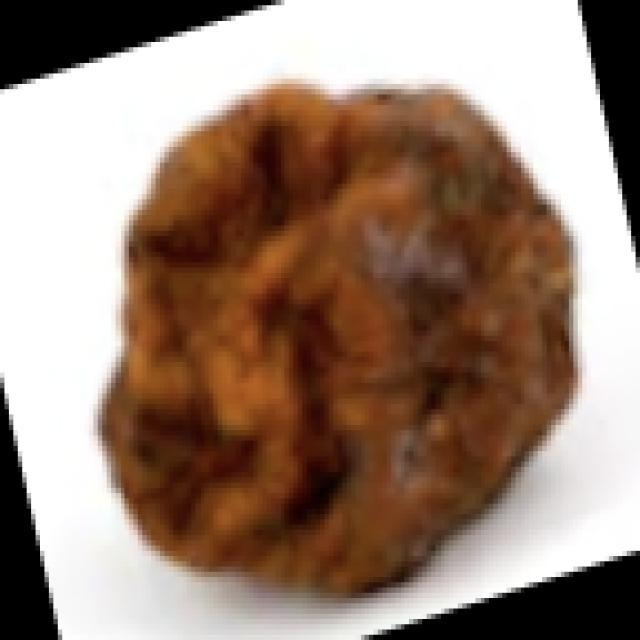sangat-busuk: (101, 84, 575, 595)
